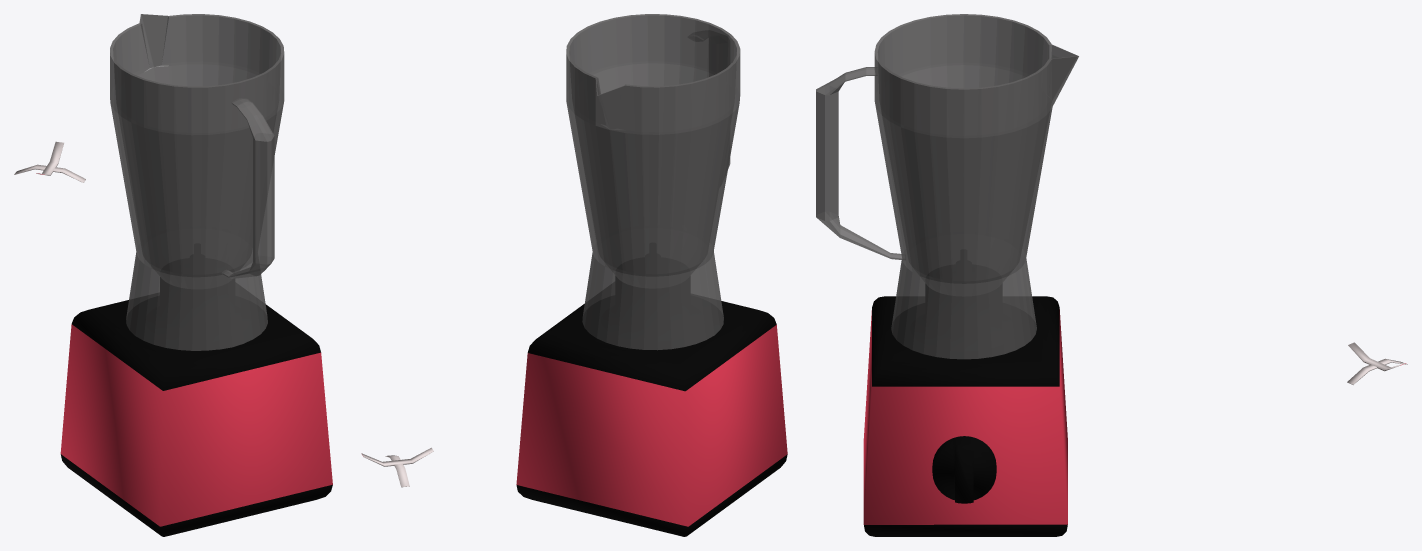
The model's file is BetterBestestBlender.fbx.
3 renders of one model, left to right at view 1: azimuth 30°, elevation 25°; view 2: azimuth 150°, elevation 25°; view 3: azimuth 270°, elevation 25°, orthographic. The views are drawn at different scales.
Parts seen in each view (by area): view 1: Blender, Blender.001; view 2: Blender, Blender.001; view 3: Blender.
Part boxes in pixels (<box>): Blender: <box>60,14,332,536</box>; Blender.001: <box>14,141,85,182</box>; Blender: <box>516,14,787,536</box>; Blender.001: <box>361,447,433,487</box>; Blender: <box>816,14,1078,536</box>.
Size of the model in its own units: 219 by 476 by 570.
